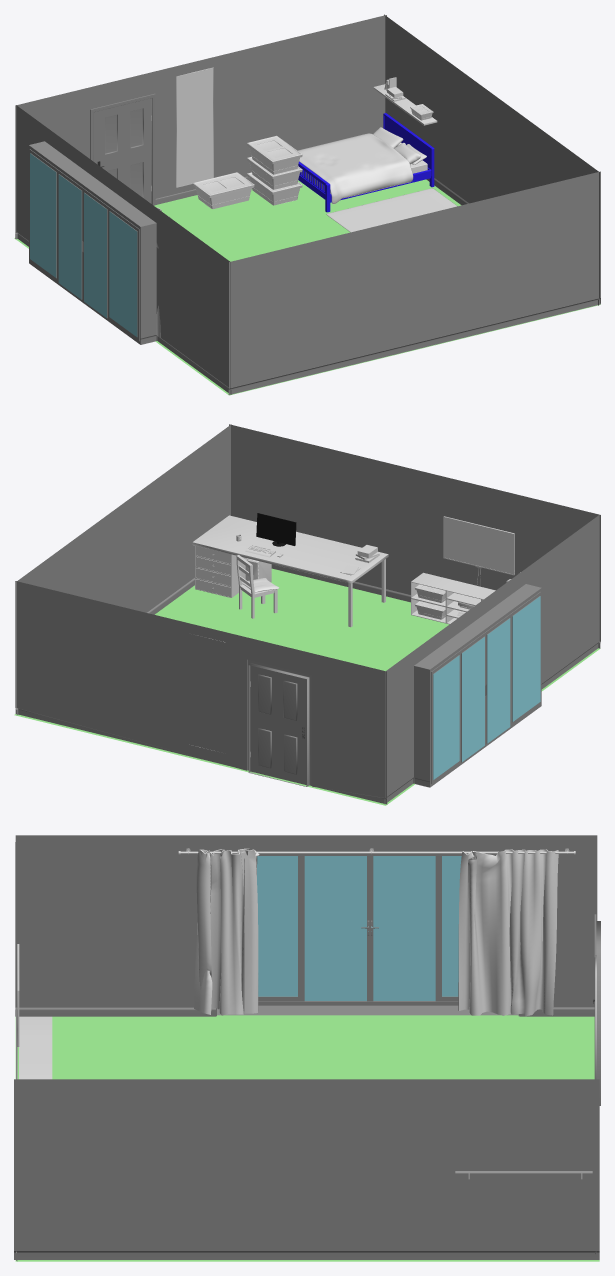
3 views of the same model, one above another, from view 1: azimuth 30°, elevation 25°; view 2: azimuth 150°, elevation 25°; view 3: azimuth 270°, elevation 25° (orthographic). The views are drawn at different scales.
Visible parts, largest first — view 1: Wall2, Wall3, Right handle, Wall1, Floor, Duvet, Mirror, Rug, Bedframe, Box004, Box003, Box001 (+1 smaller); view 2: Wall3, Right handle, Wall2, Wall1, Floor, Desk, TV, Console shelf, Moniter, Chair; view 3: Wall1, Right handle, Floor, Right curtain, Left Curtain, Console shelf, Wall3, Curtain pole.
Boxes of the visible parts, bbox=[...] form: Wall2: bbox=[228, 171, 600, 394]; Wall3: bbox=[15, 15, 386, 239]; Right handle: bbox=[16, 105, 231, 394]; Wall1: bbox=[384, 14, 599, 305]; Floor: bbox=[14, 179, 600, 395]; Duvet: bbox=[298, 133, 413, 204]; Mirror: bbox=[176, 67, 213, 187]; Rug: bbox=[326, 188, 457, 232]; Bedframe: bbox=[298, 113, 434, 212]; Box004: bbox=[192, 172, 254, 208]; Box003: bbox=[247, 135, 302, 174]; Box001: bbox=[247, 172, 302, 205]; Wall3: bbox=[15, 581, 387, 804]; Right handle: bbox=[384, 515, 599, 804]; Wall2: bbox=[229, 424, 600, 648]; Wall1: bbox=[15, 424, 231, 715]; Floor: bbox=[14, 568, 600, 805]; Desk: bbox=[192, 515, 388, 627]; TV: bbox=[443, 516, 514, 575]; Console shelf: bbox=[411, 572, 495, 624]; Moniter: bbox=[256, 513, 296, 546]; Chair: bbox=[236, 555, 277, 618]; Wall1: bbox=[14, 1079, 599, 1259]; Right handle: bbox=[15, 835, 597, 1016]; Floor: bbox=[15, 1015, 599, 1261]; Right curtain: bbox=[458, 849, 558, 1016]; Left Curtain: bbox=[194, 848, 259, 1015]; Console shelf: bbox=[19, 1016, 52, 1079]; Wall3: bbox=[594, 914, 600, 1253]; Curtain pole: bbox=[178, 848, 575, 854].
Size of the model in its own units: 7296 by 2407 by 7054.
